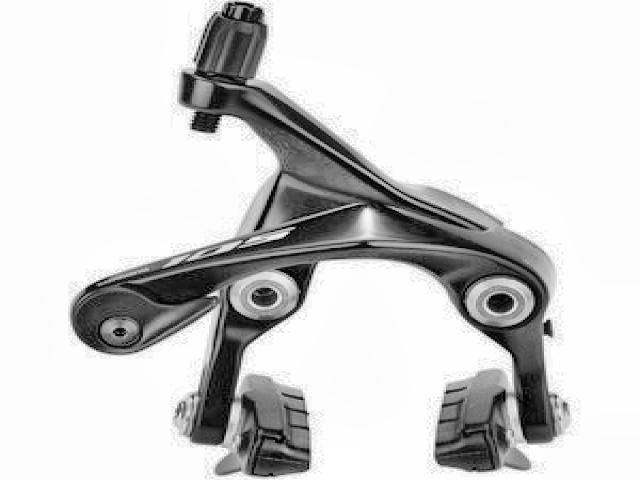rim_brake: (67, 1, 573, 477)
